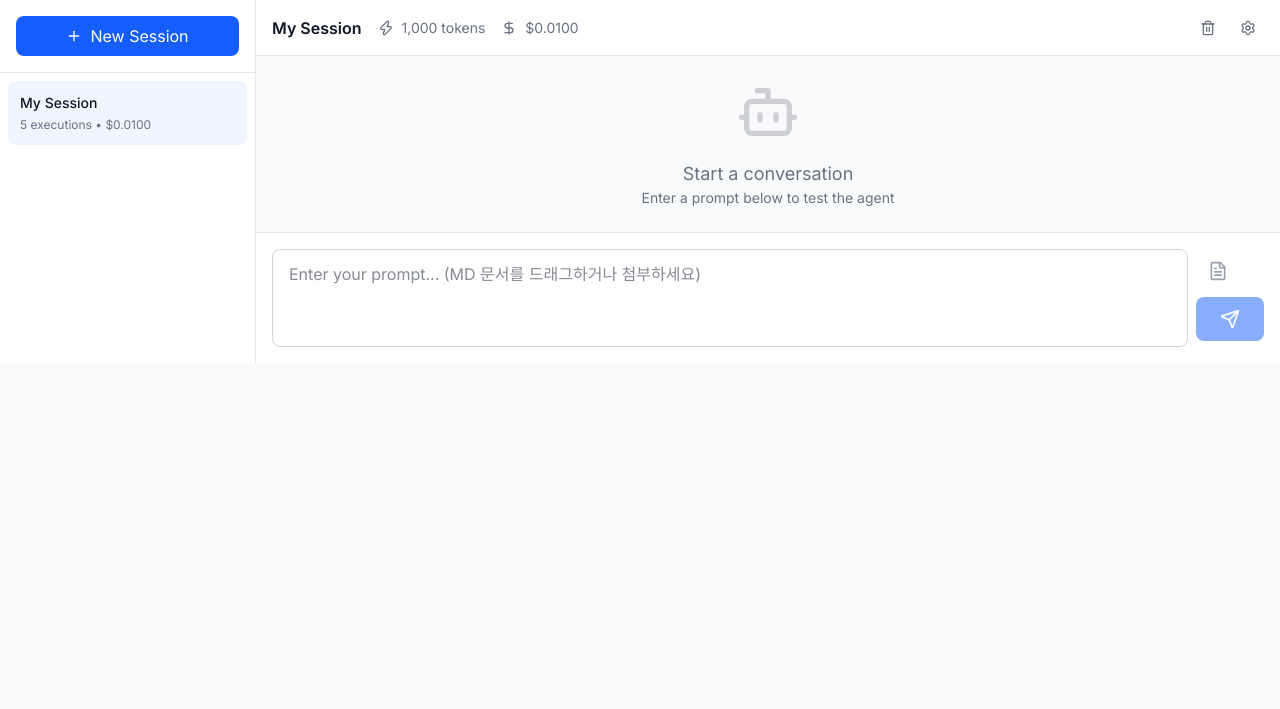
PlaygroundPage › toggles settings panel on/off
Expected: the text "System Prompt" is not shown
Click the button titled "Settings": (1248, 28) x1=1232 y1=12 x2=1264 y2=44
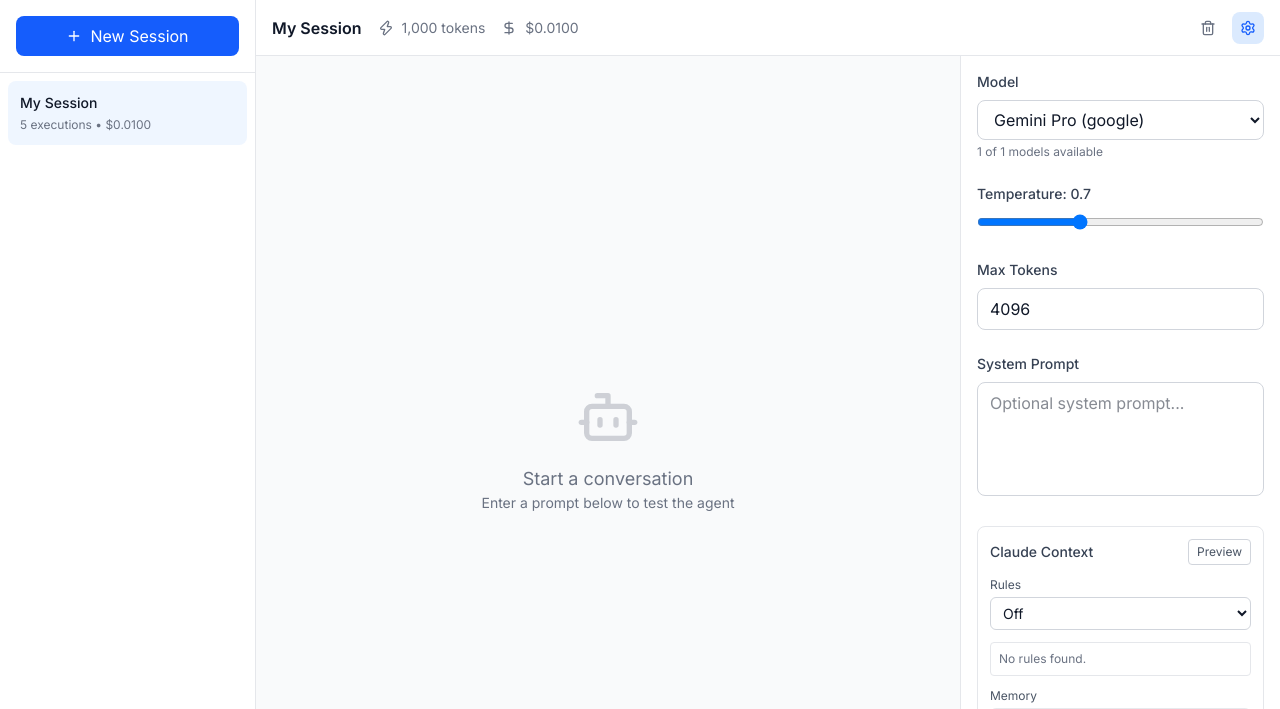
Expected: the text "System Prompt" is shown, x1=977 y1=355 x2=1079 y2=372
Expected: the text "Temperature: 0.7" is shown, x1=977 y1=185 x2=1091 y2=202
Expected: the text "Max Tokens" is shown, x1=977 y1=261 x2=1058 y2=278
Toggle off
Click the button titled "Settings": (1248, 28) x1=1232 y1=12 x2=1264 y2=44
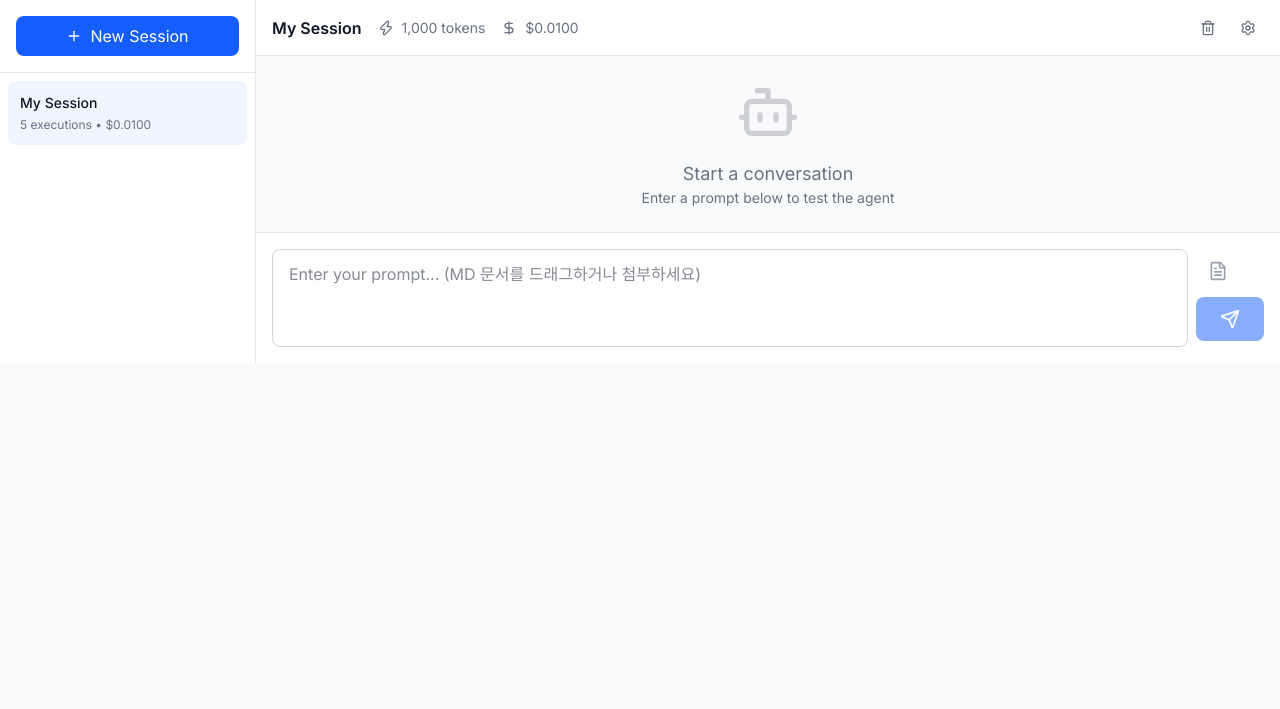
Expected: the text "System Prompt" is gone
